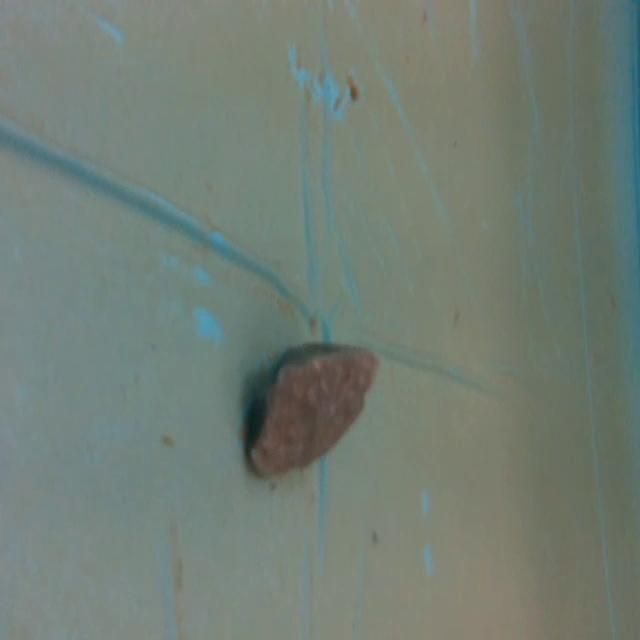rock: (245, 342, 386, 488)
